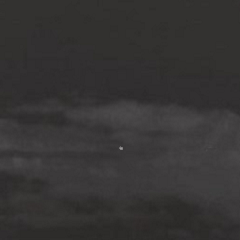Target: (117, 144, 124, 152)
